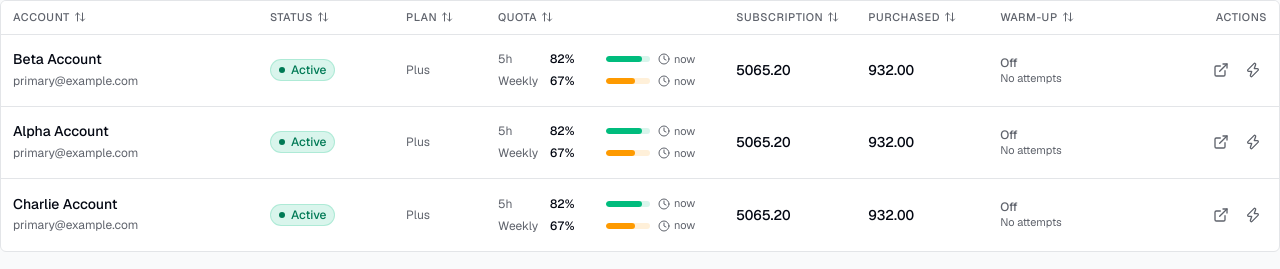
Test: AccountList › sorts by account header and toggles direction
The image size is (1280, 269).
Click the button "Account" at (136,17), box [13,9,258,26]
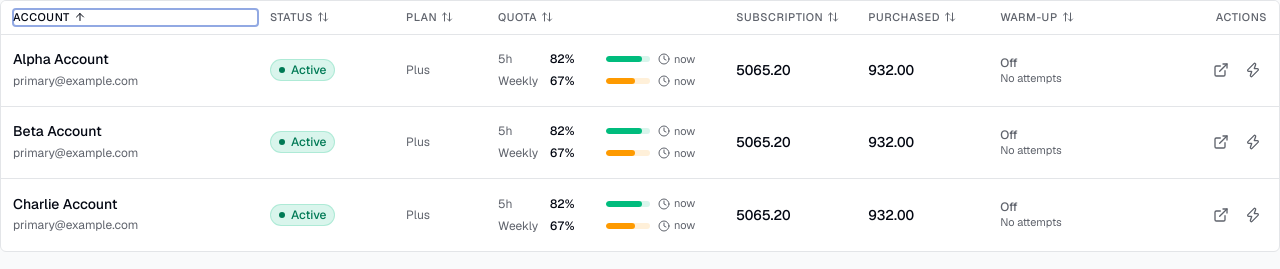
Now the button with aria-label "Account, sorted ascending" is shown
Click the button with aria-label "Account, sorted ascending" at (136,17), box [13,9,258,26]
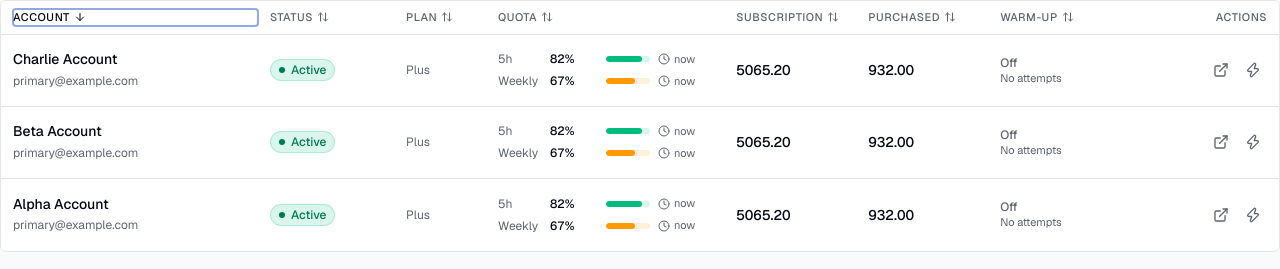
Now the button with aria-label "Account, sorted descending" is shown, box [13,9,258,26]
